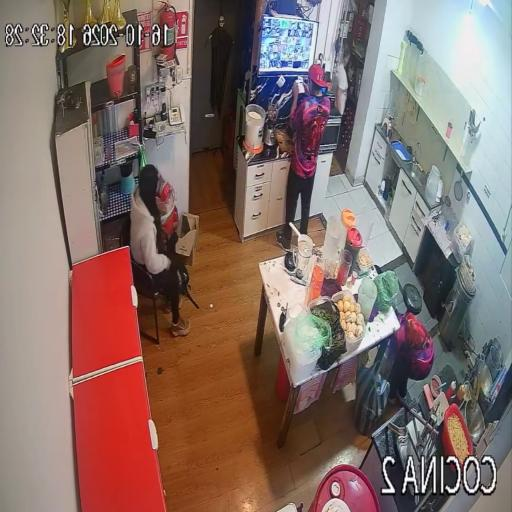Envase Ketchup: (447, 381, 456, 400)
Envase Llajua: (458, 383, 469, 402)
Jarra1: (345, 227, 362, 273)
Jarra2: (340, 209, 356, 247)
Jarra3: (323, 215, 341, 261)
Jarra4: (358, 278, 378, 321)
Microondas: (309, 110, 341, 154)
Persona1: (276, 64, 330, 250)
Persona5: (130, 165, 190, 336)
Taper: (451, 223, 472, 264)
Taper2: (282, 304, 331, 381)
Taper3: (309, 297, 346, 369)
Taper4: (332, 290, 366, 351)
